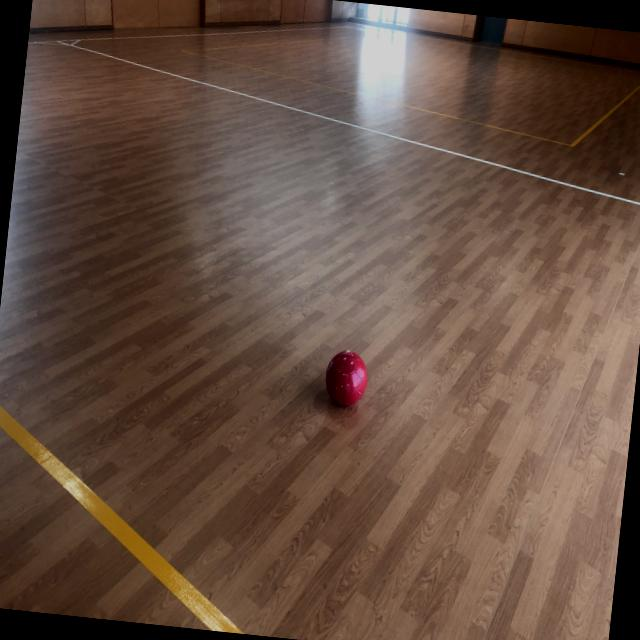red_ball: (322, 348, 371, 411)
